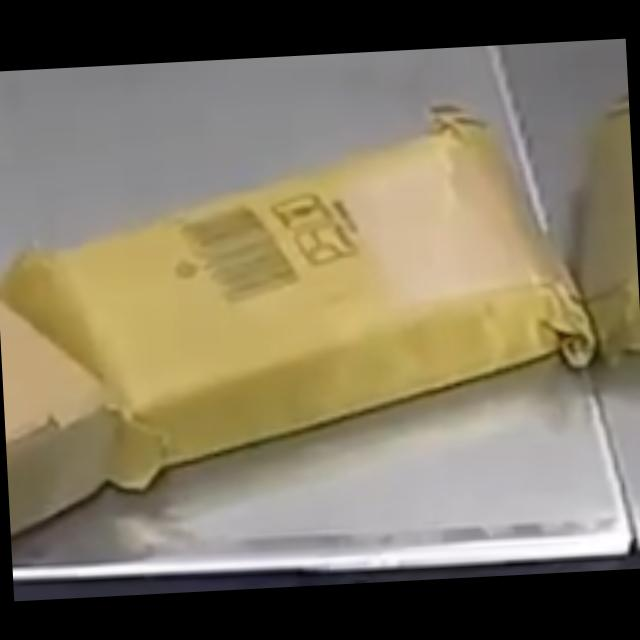mailer: (0, 110, 605, 495)
